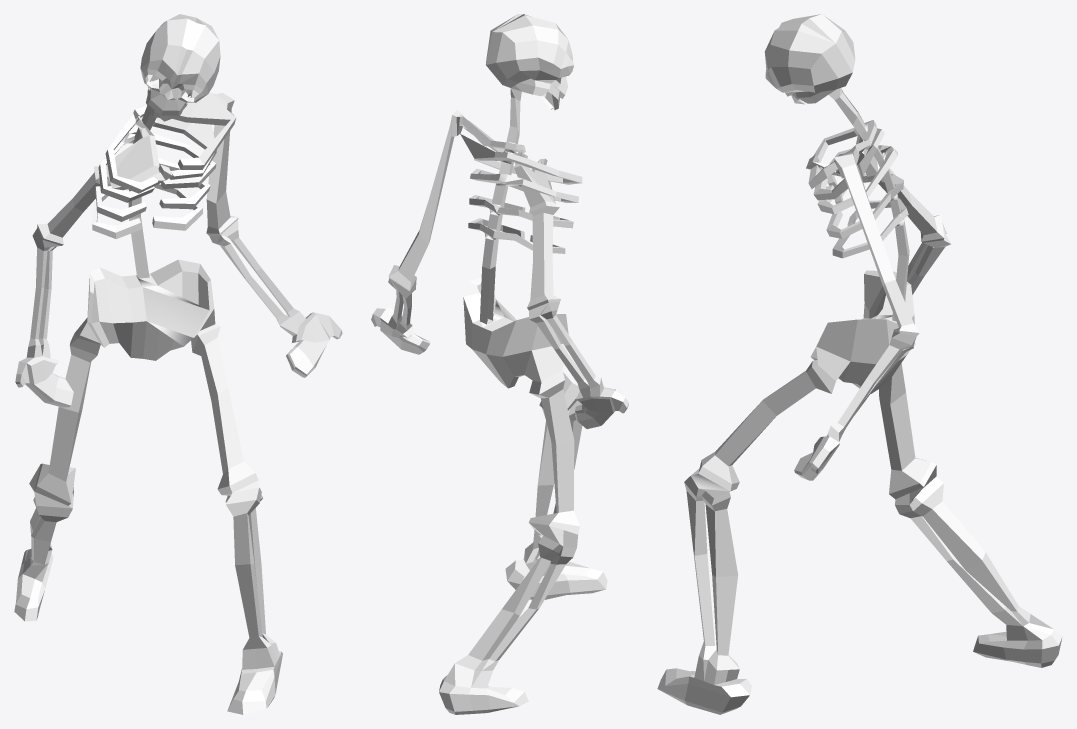
File: SkeletonIdle(51).obj
3 views of the same model, side by side, from view 1: azimuth 30°, elevation 25°; view 2: azimuth 150°, elevation 25°; view 3: azimuth 270°, elevation 25° (orthographic). The views are drawn at different scales.
Parts seen in each view (by area): view 1: Object002; view 2: Object002; view 3: Object002.
Boxes of the visible parts, x1,y1,x2,y2 form: Object002: [14, 14, 342, 714]; Object002: [371, 14, 628, 714]; Object002: [657, 14, 1062, 714].
Bounding box in the file's own units: 538 × 1118 × 609.
